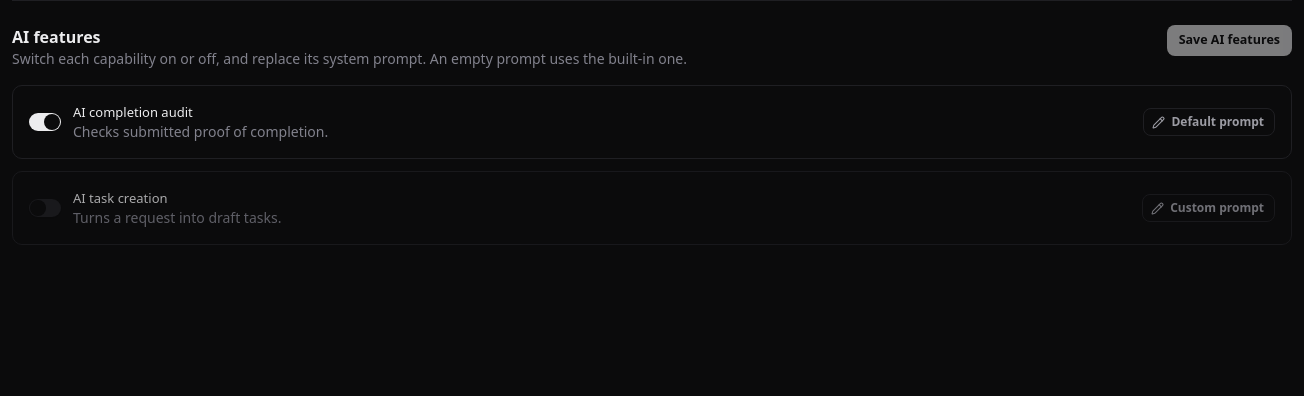
Scenario: AiFeatureSettings › shows the built-in prompt as the placeholder and can restore it
Click the button "Custom prompt".
click(1209, 208)  # box [1142, 194, 1275, 222]
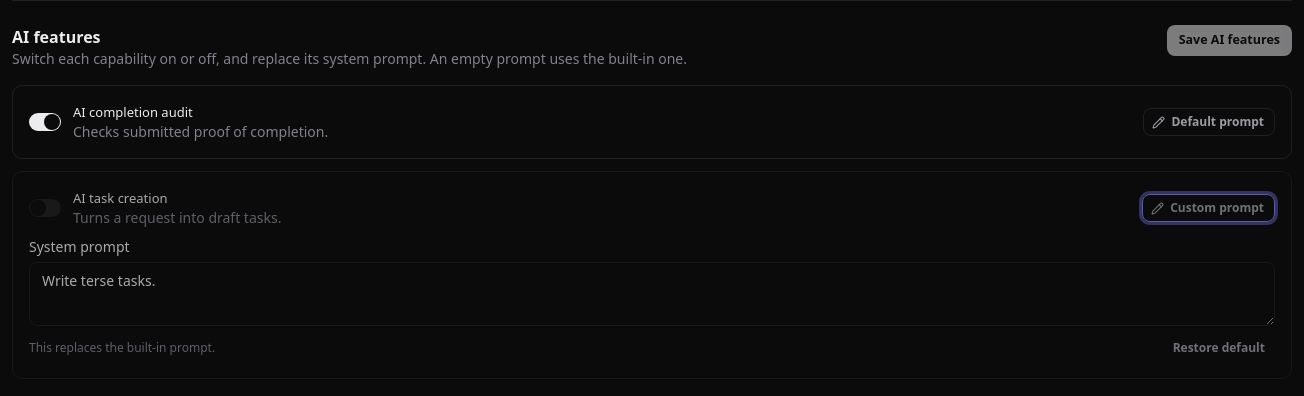
Click the button "Restore default".
click(1219, 348)  # box [1163, 334, 1275, 362]
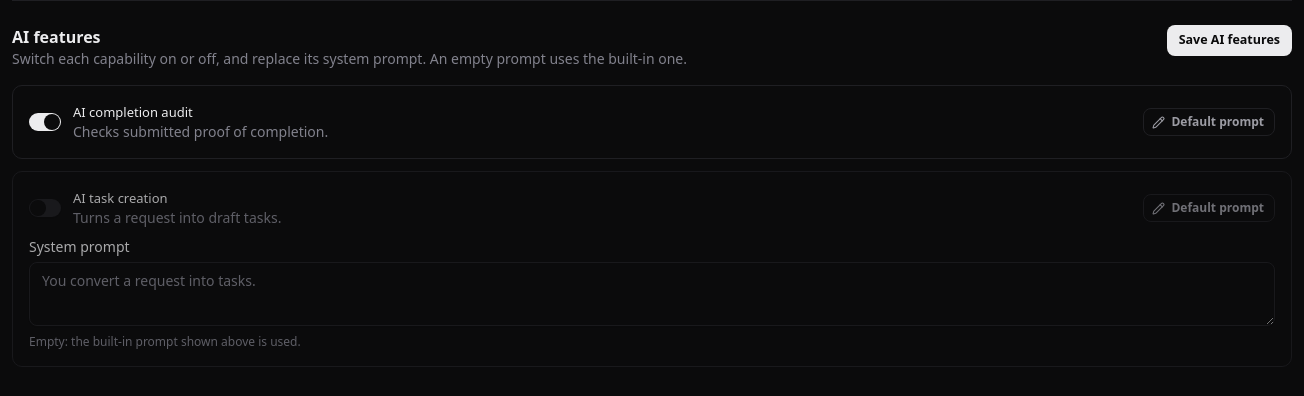
Result: the text box named "AI task creation system prompt" is empty at [29, 262, 1275, 326]
Result: the text "Empty: the built-in prompt shown above is used." is shown at [29, 334, 301, 350]
